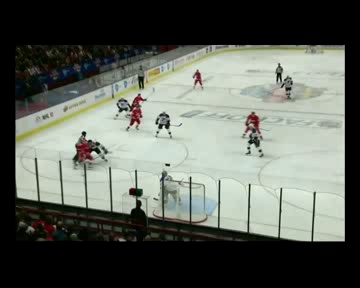normal: (70, 126, 113, 168), (111, 89, 150, 131), (241, 108, 272, 159), (269, 59, 295, 102)
